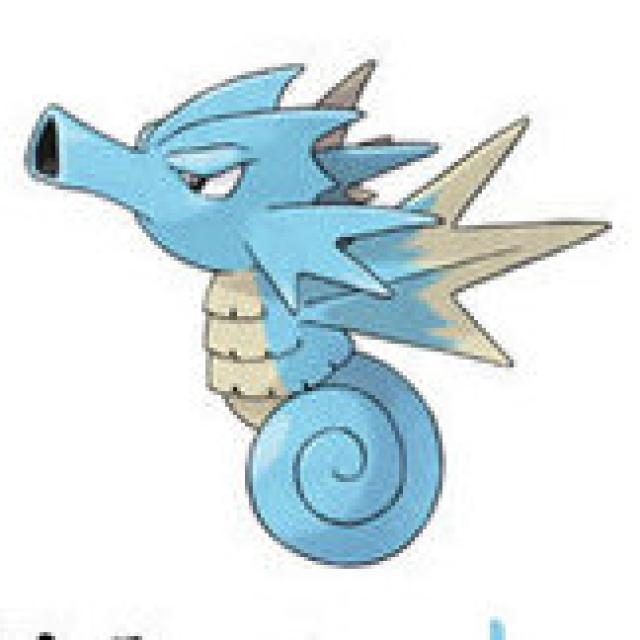Seadra: (16, 54, 503, 562)
